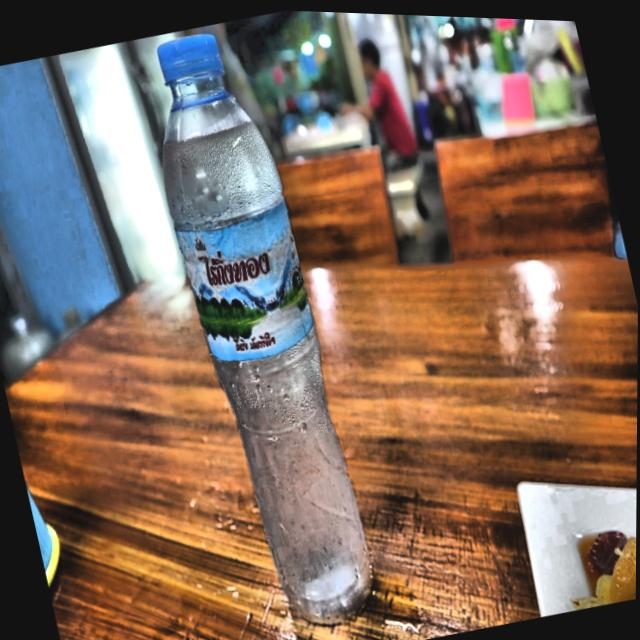Bottles: (122, 8, 413, 640)
